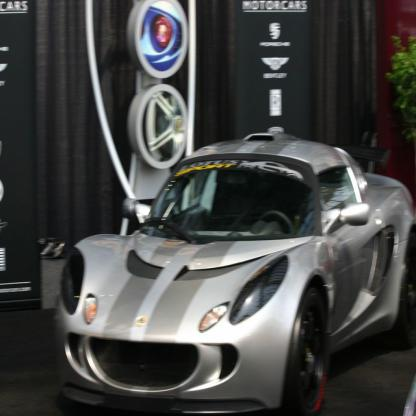Car: (55, 132, 415, 415)
